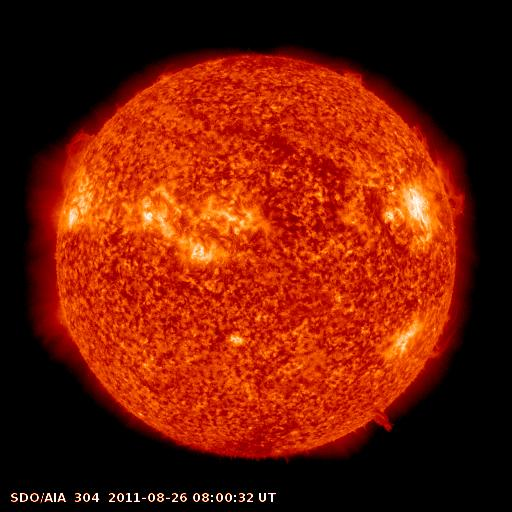prominence: (408, 115, 472, 214), (57, 123, 104, 192), (422, 321, 458, 365), (363, 400, 400, 438), (337, 58, 374, 92)
